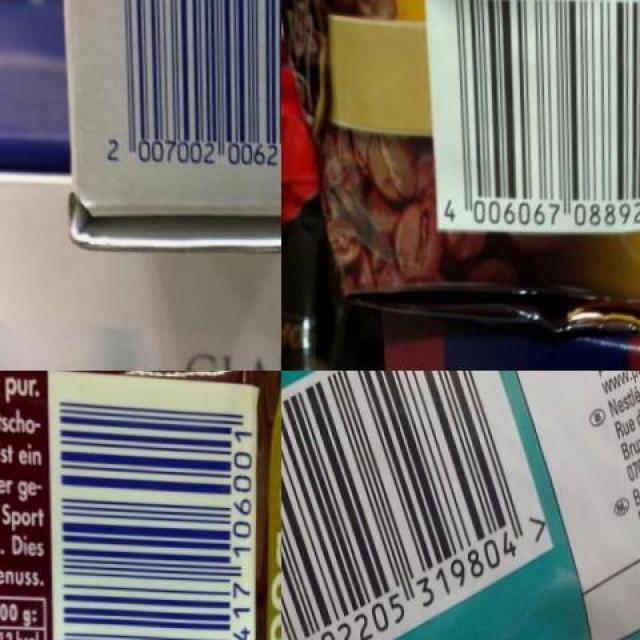Barcode: (281, 370, 553, 640), (45, 370, 259, 640), (422, 0, 640, 233), (76, 0, 281, 196)
